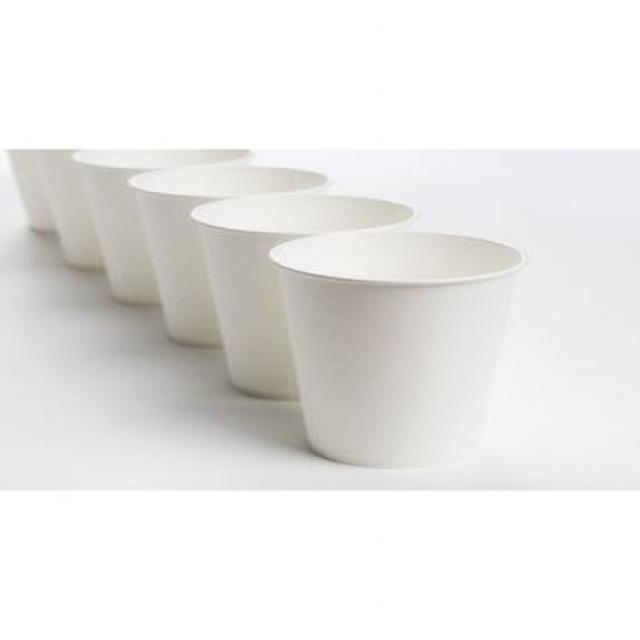karton-bardak: (214, 222, 573, 476)
